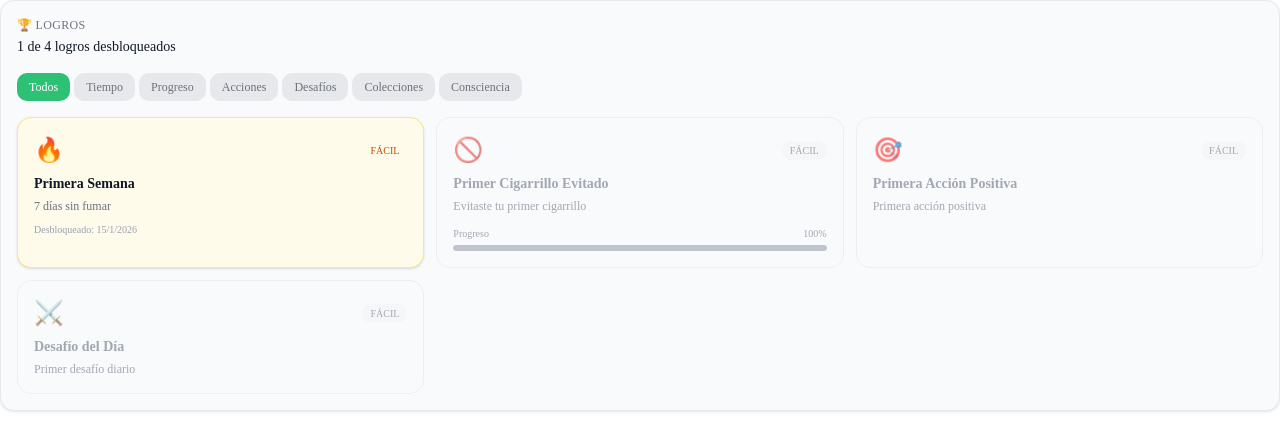
Scenario: AchievementGallery › category filters › filters achievements by category when tab is clicked
Note: Click on "Tiempo" tab
Click the tab "Tiempo".
click(105, 87)  # box [74,73,135,101]
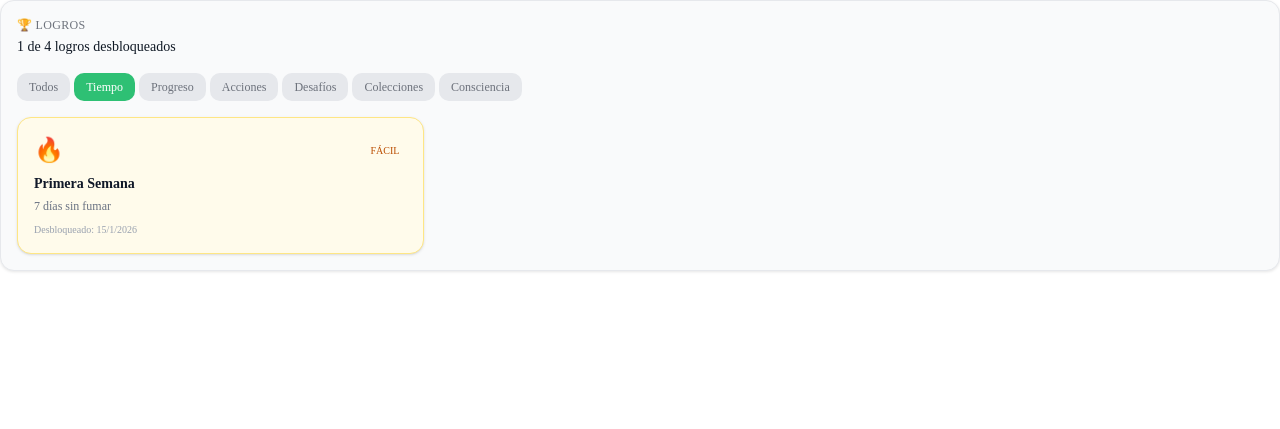
expect the element with test id "achievement-card-P001" is gone: met
expect the element with test id "achievement-card-A001" is gone: met
expect the element with test id "achievement-card-D001" is gone: met
